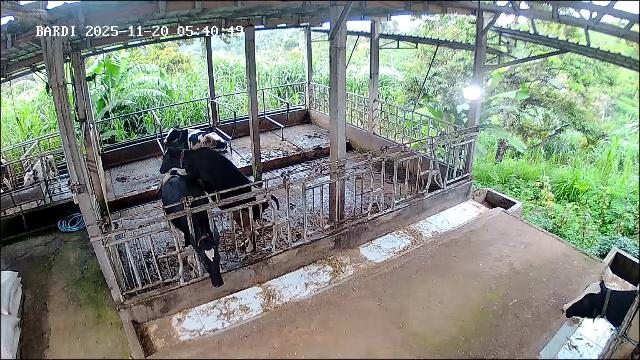mounting: (160, 147, 269, 258)
